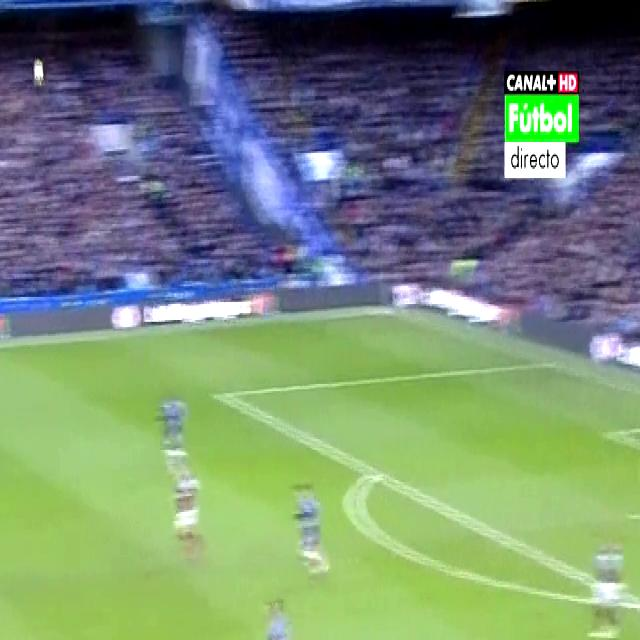ball: (30, 53, 48, 95)
soccer-player: (587, 519, 628, 640), (286, 466, 326, 587), (168, 460, 209, 575), (156, 375, 191, 476), (256, 592, 304, 640)
